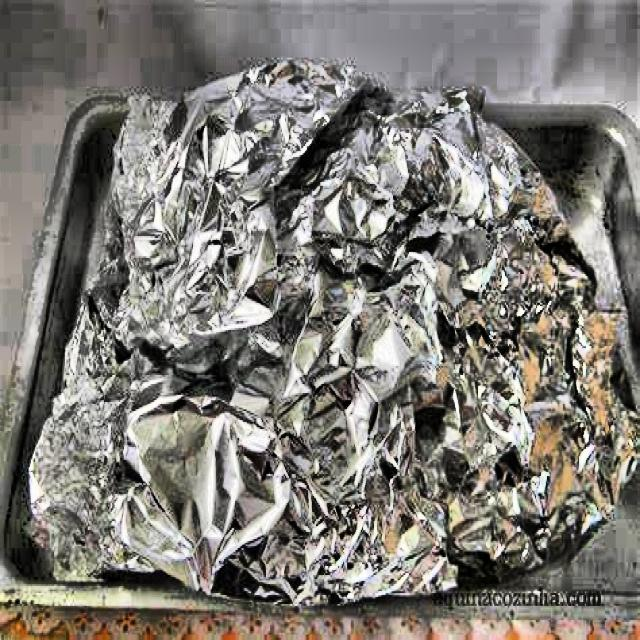Foil: (15, 49, 640, 613)
